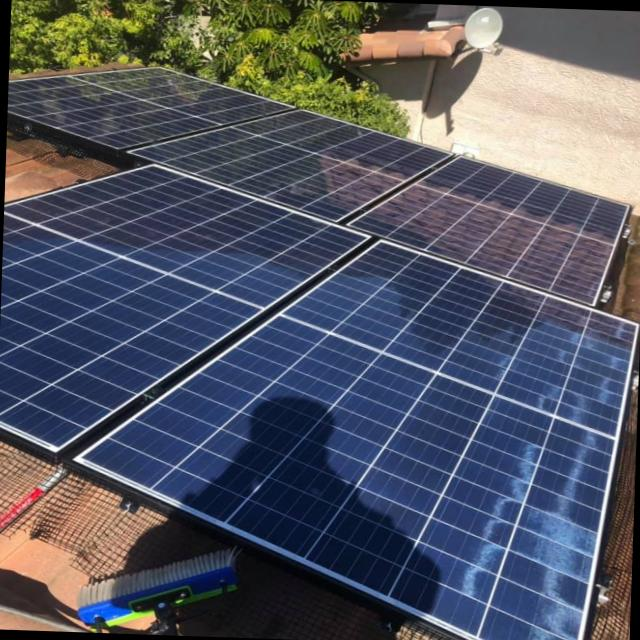faulty: (86, 235, 640, 640)
no faulty: (8, 72, 625, 307), (0, 162, 372, 446)
